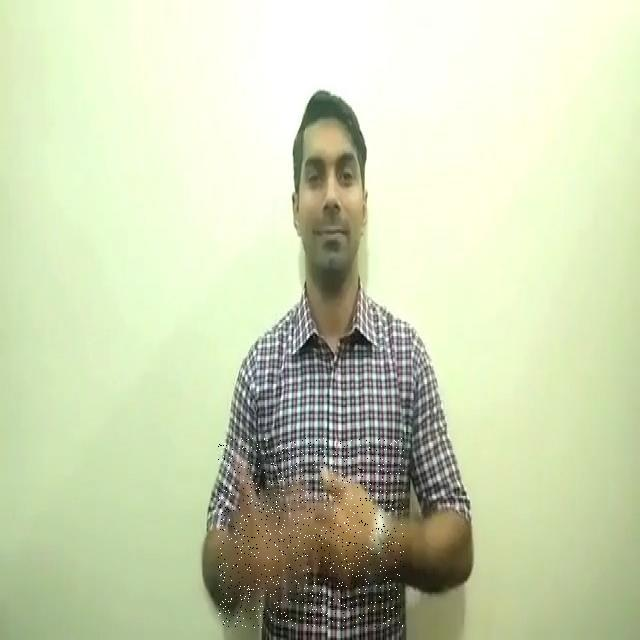bread: (218, 438, 404, 628)
